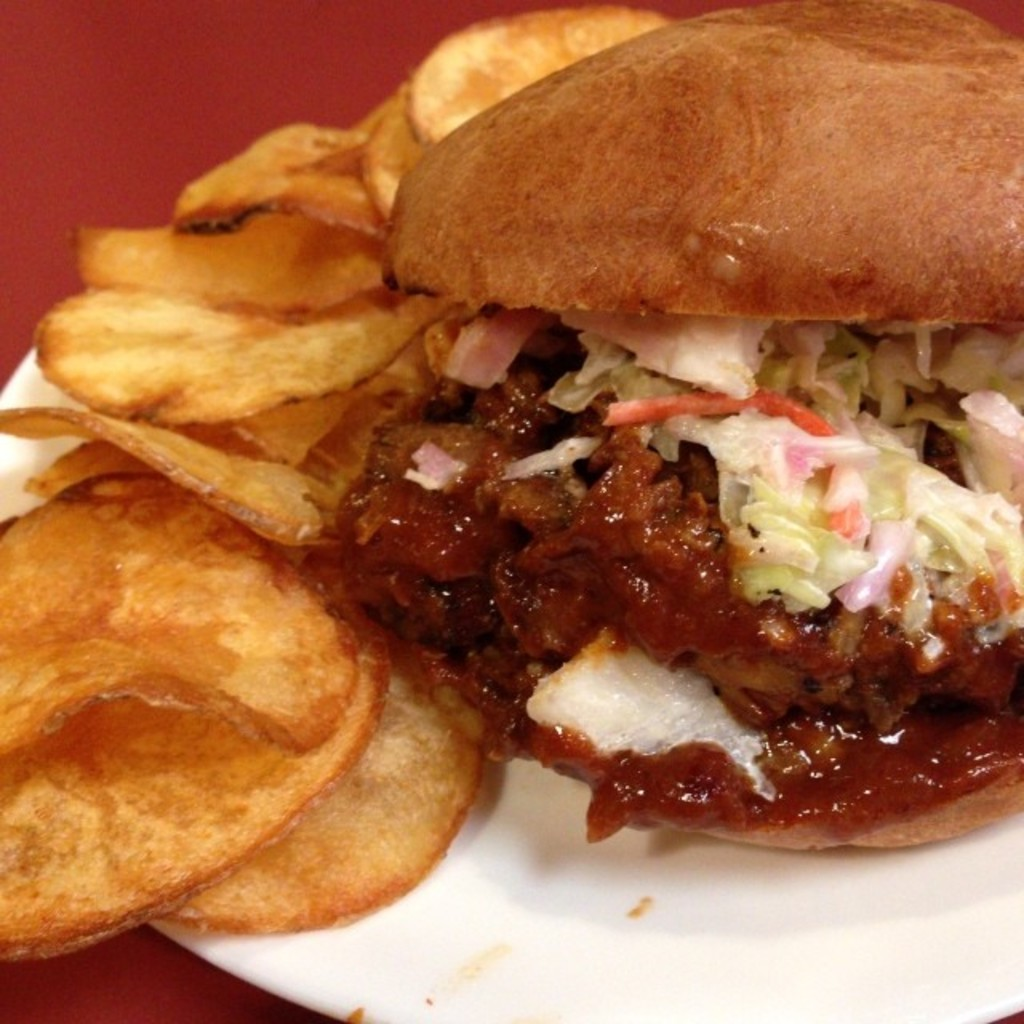Hamburger: (326, 0, 1022, 891)
